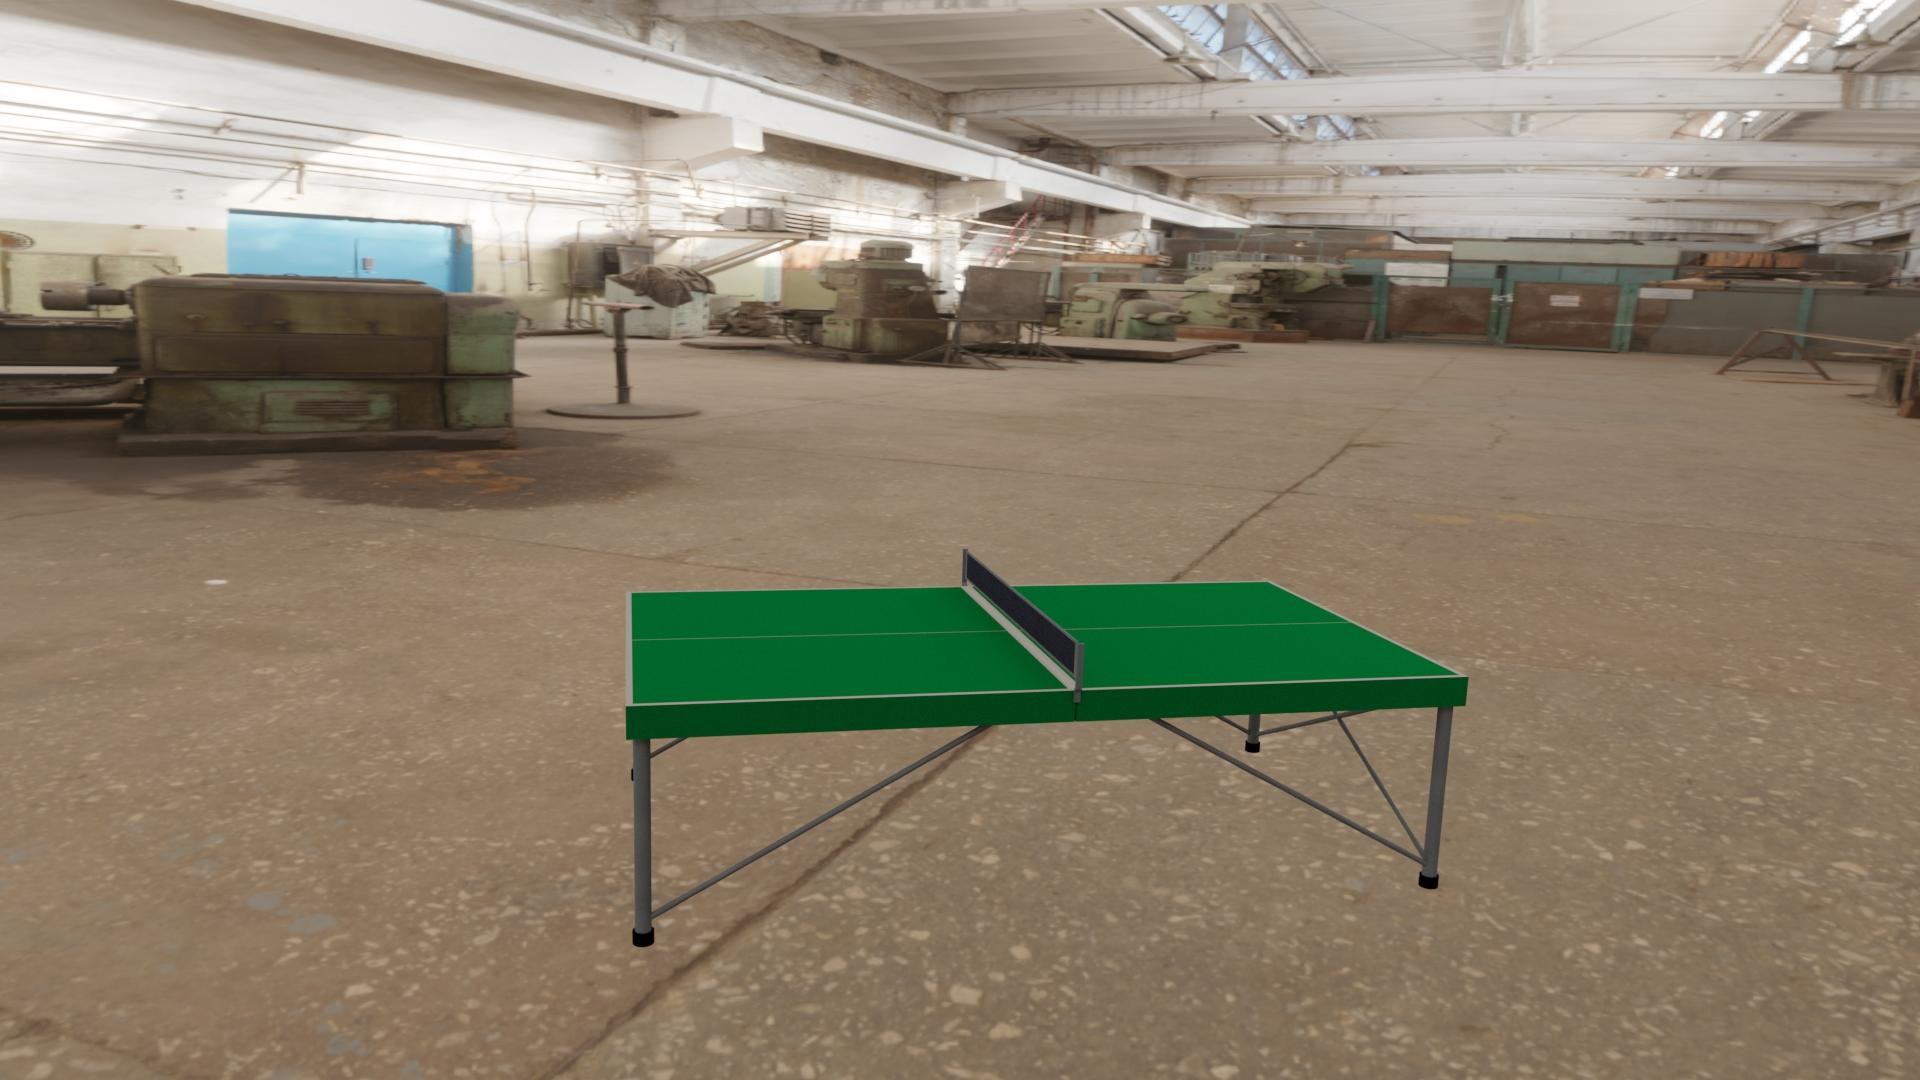table: (632, 582, 1460, 704)
